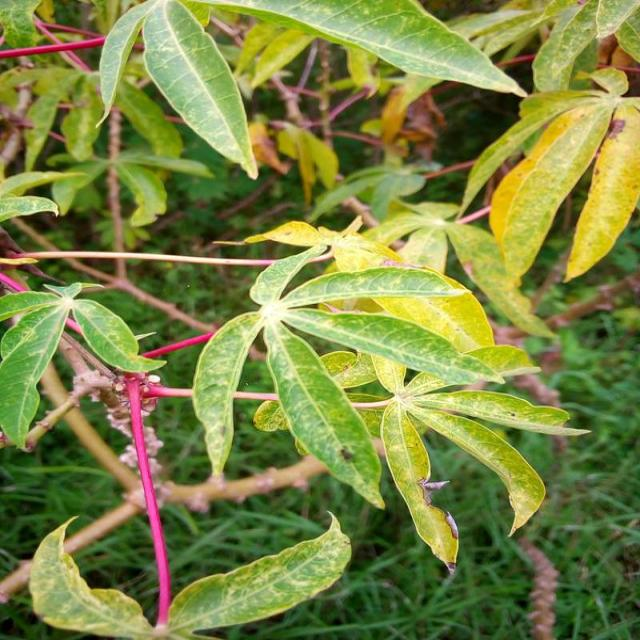cassava leaf: (191, 223, 590, 576), (166, 509, 352, 636), (139, 0, 258, 180)
